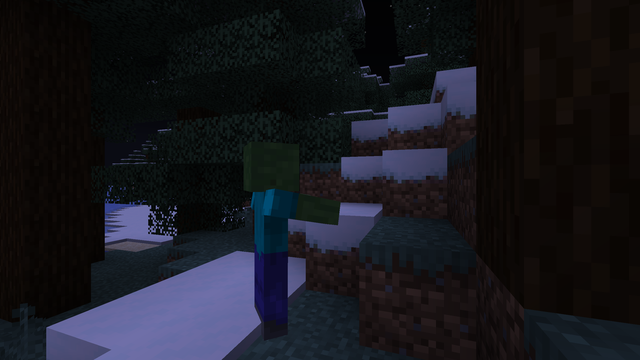zombies: (230, 145, 305, 347)
